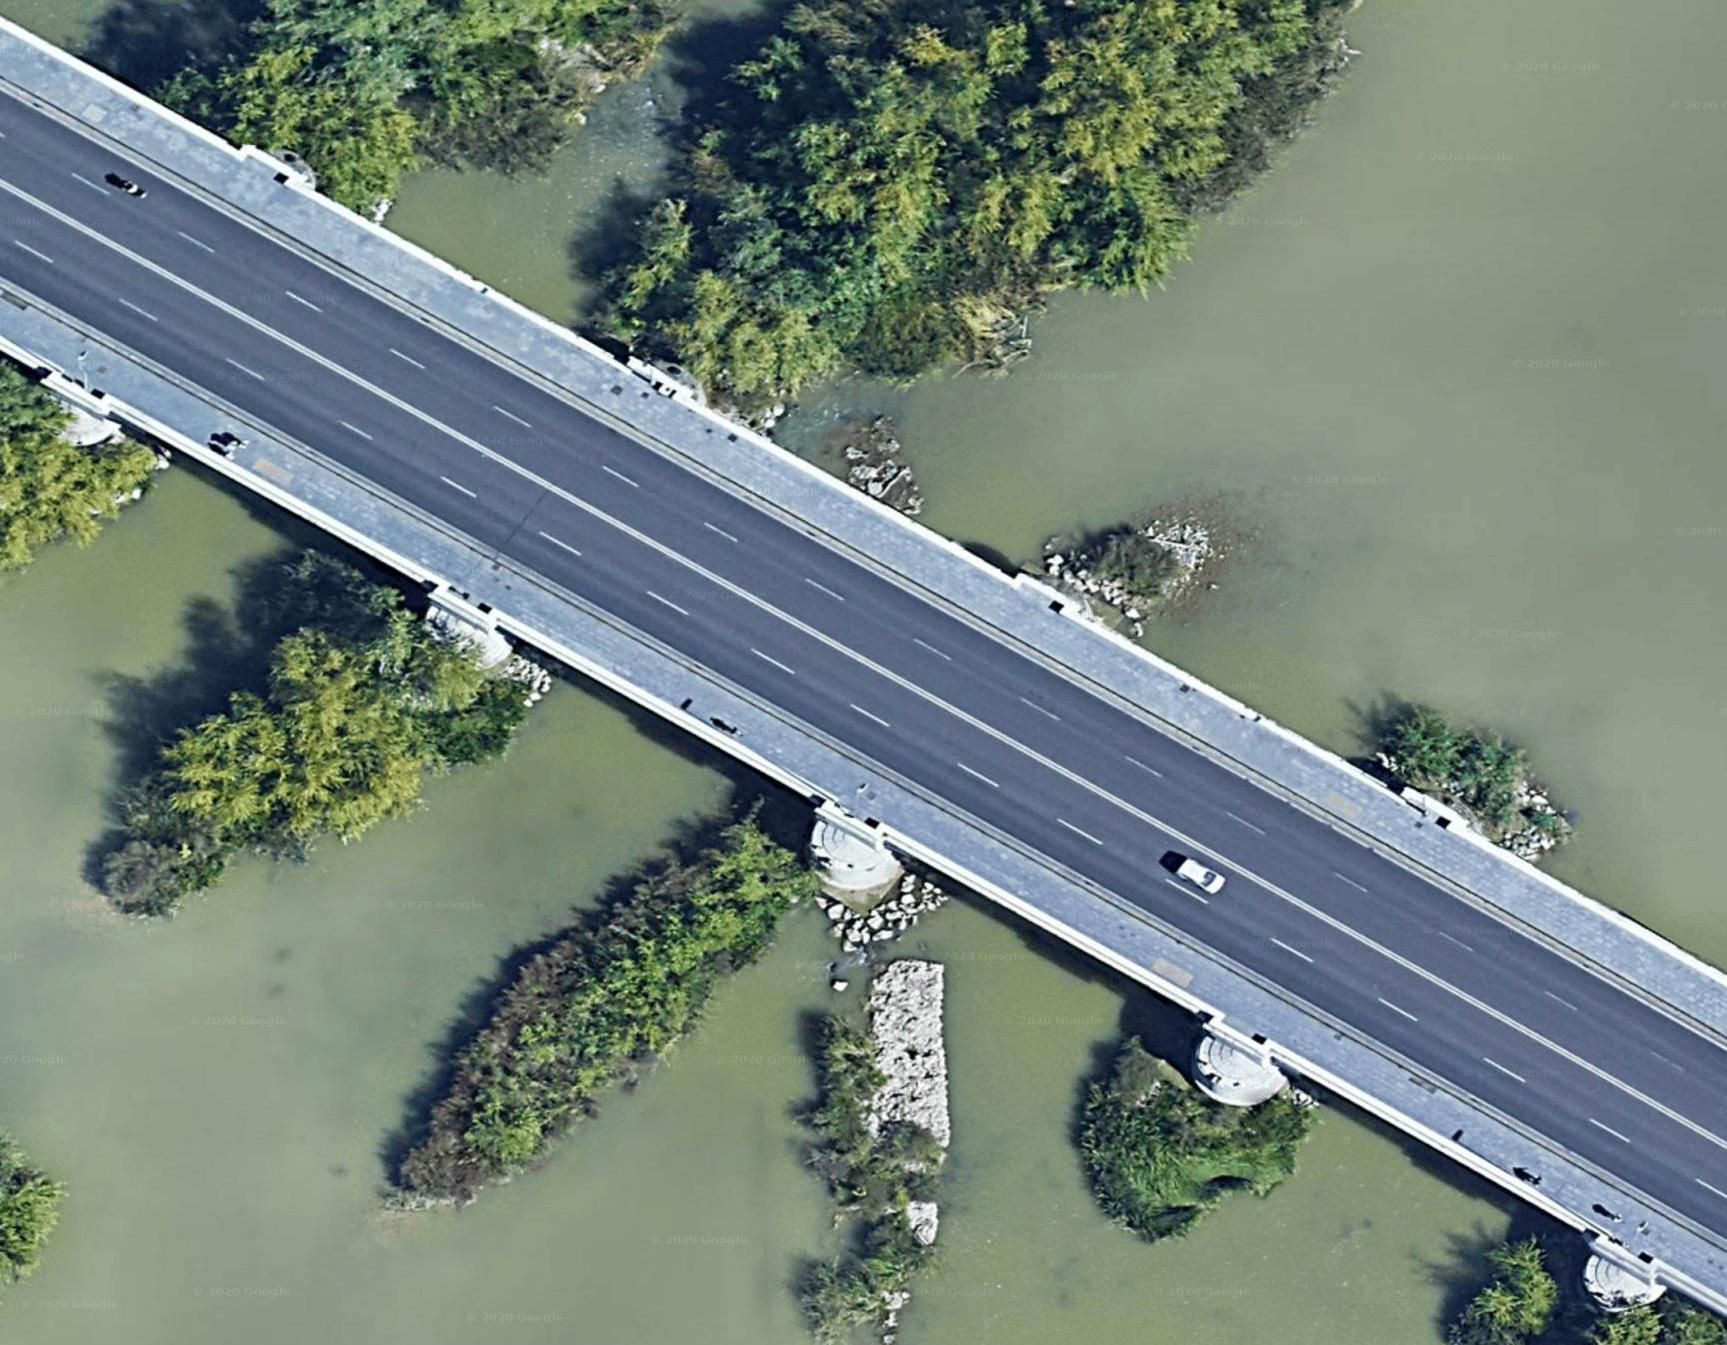bridge: (52, 13, 1699, 1297)
small-vehicle: (1166, 849, 1228, 900)
